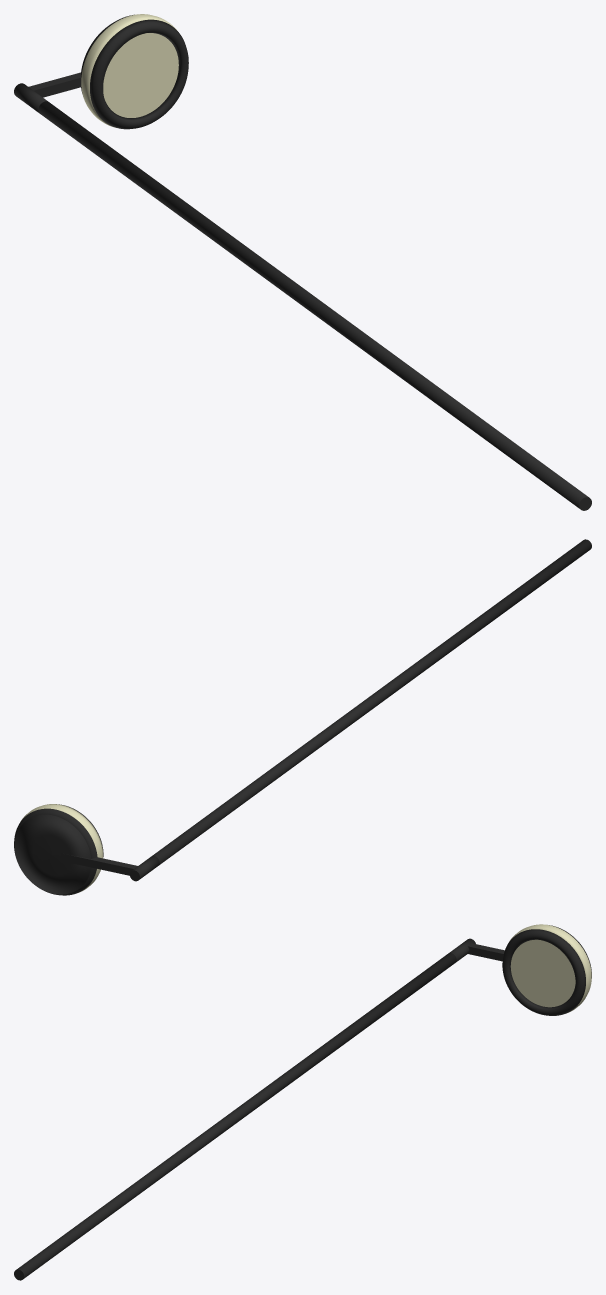
File: Skipper.fbx
The picture shows the model from 3 angles, top to bottom: view 1: azimuth 30°, elevation 25°; view 2: azimuth 150°, elevation 25°; view 3: azimuth 330°, elevation 25°; orthographic projection. The views are drawn at different scales.
Visible parts, largest first — view 1: G-__555645; view 2: G-__555645; view 3: G-__555645.
Part boxes in pixels (bbox=[...]): G-__555645: bbox=[14, 14, 591, 510]; G-__555645: bbox=[14, 539, 591, 895]; G-__555645: bbox=[14, 924, 591, 1280].
Size of the model in its own units: 78.46 by 49.88 by 472.
